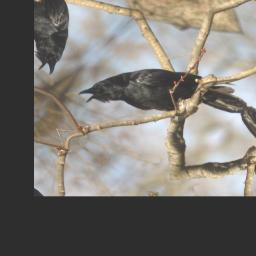Crow: (72, 26, 253, 170)
